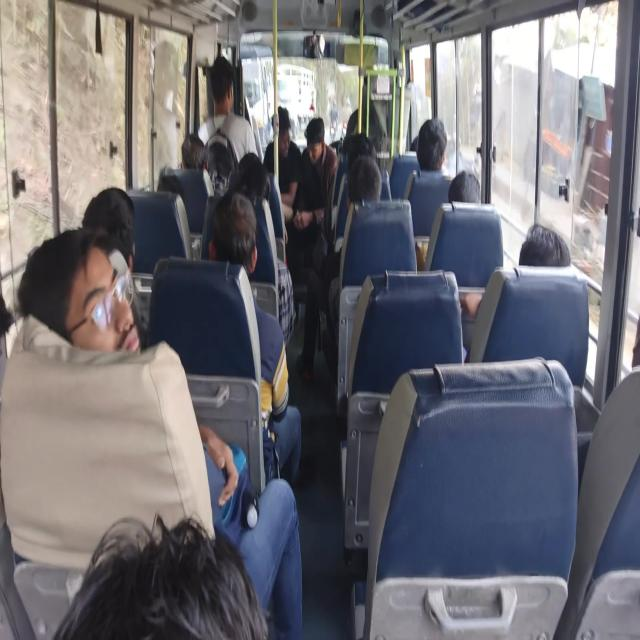person: (69, 485, 262, 640), (22, 224, 132, 396), (607, 296, 640, 496), (82, 169, 136, 270), (516, 222, 580, 300), (214, 199, 254, 281), (210, 52, 261, 116), (423, 102, 455, 184), (459, 179, 504, 235), (332, 121, 378, 170), (274, 106, 308, 164), (306, 118, 334, 184), (237, 167, 273, 215), (150, 156, 184, 202), (234, 147, 265, 182), (178, 121, 205, 161), (348, 156, 373, 193), (407, 123, 430, 158)
